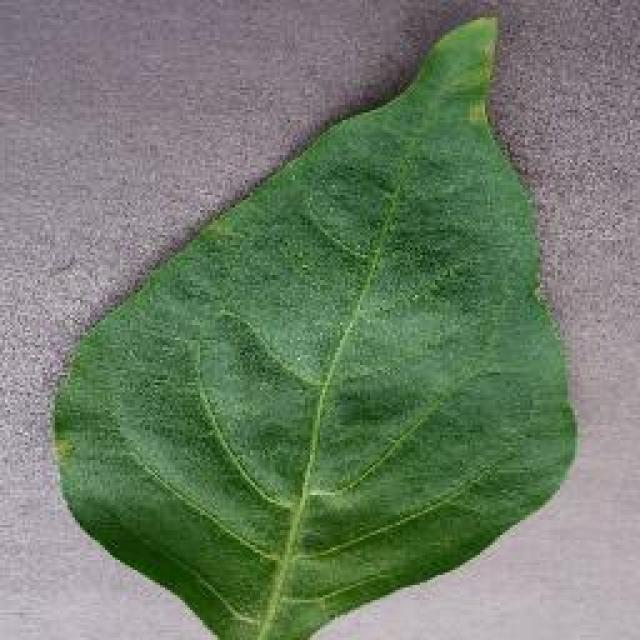Leaf: (25, 2, 638, 625)
